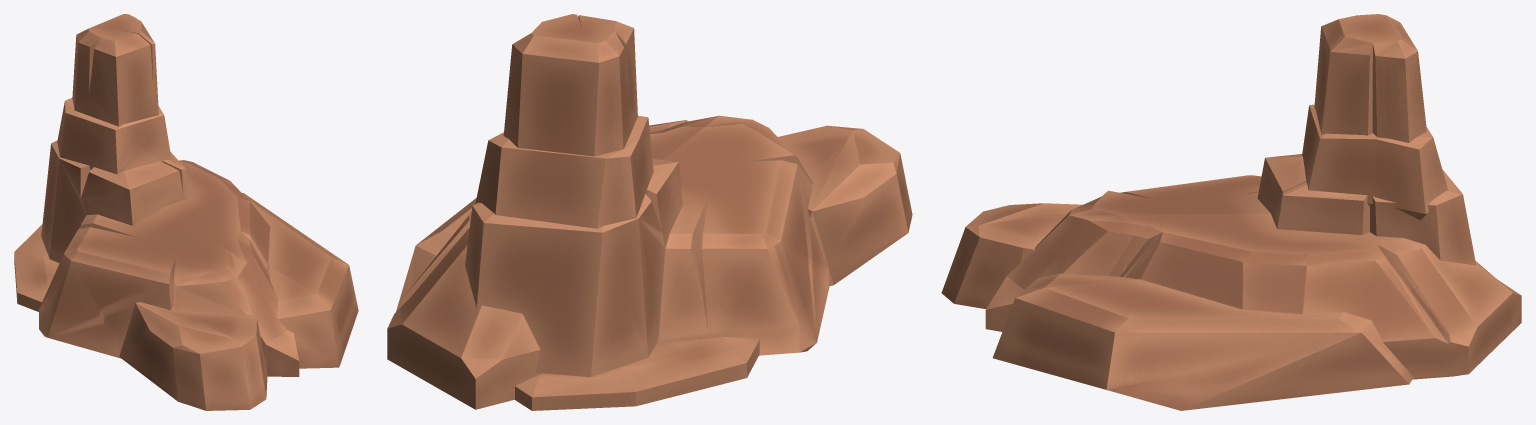
The model's file is midle_rock_05.glb.
3 renders of one model, left to right at view 1: azimuth 30°, elevation 25°; view 2: azimuth 150°, elevation 25°; view 3: azimuth 270°, elevation 25°, orthographic. The views are drawn at different scales.
Parts seen in each view (by area): view 1: Cube.014_Midle_rock_3_0; view 2: Cube.014_Midle_rock_3_0; view 3: Cube.014_Midle_rock_3_0.
Part boxes in pixels (x1,y1,x2,y2): Cube.014_Midle_rock_3_0: (14,14,358,410); Cube.014_Midle_rock_3_0: (387,14,912,410); Cube.014_Midle_rock_3_0: (941,14,1521,410).
Bounding box in the file's own units: 4.98 × 4.24 × 7.52.
Materials: 1 (1 with a texture image).
